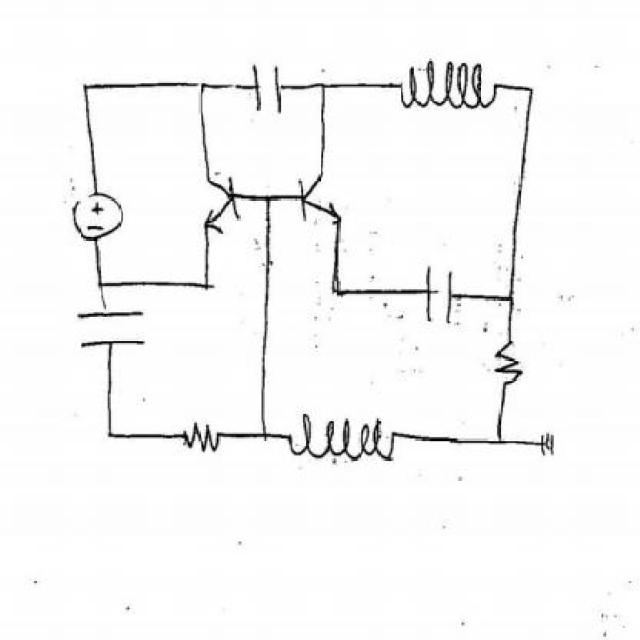capacitor: (70, 302, 149, 352), (418, 260, 462, 329), (251, 58, 289, 120)
ground: (537, 430, 560, 465)
inductor: (287, 398, 407, 471), (398, 41, 498, 121)
resistor: (490, 337, 528, 392), (181, 414, 226, 458)
transistor: (289, 168, 344, 230), (196, 170, 243, 238)
voltage_source: (64, 184, 126, 245)
